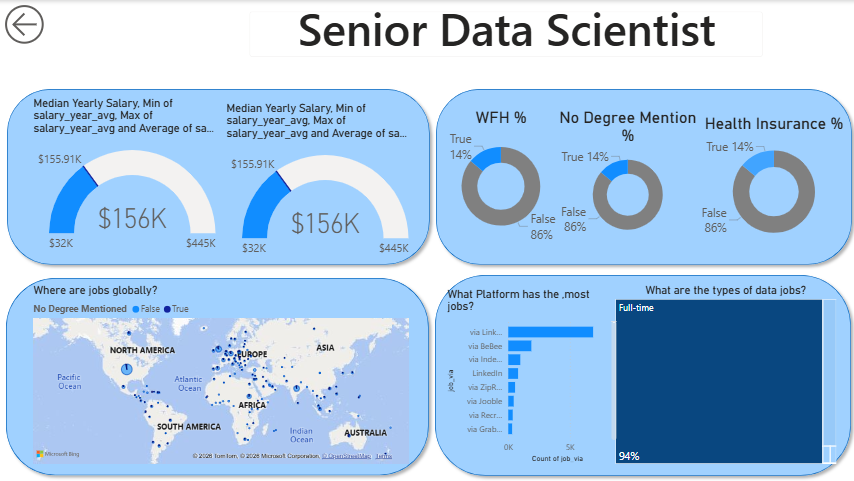

What the dashboard file says about the page in this screenshot:
{"tool":"powerbi","page":{"name":"Job Title Drill Through","canvas":[1280,720],"ordinal":1},"visuals":[{"type":"group","id":"g1","title":"Background","box":[0.6,123.8,1281.7,595],"z":0},{"type":"cardVisual","fields":{"Data":["Min(job_postings_flat.job_title_short)1"]},"box":[355.7,0,801.4,102.9],"z":1000},{"type":"shape","box":[1.5,124.3,649.4,280.3],"z":1000,"group":"g2"},{"type":"actionButton","box":[0,0,167.9,72.9],"z":2000},{"type":"shape","box":[643.2,123.8,639.1,280.3],"z":3000,"group":"g2"},{"type":"gauge","fields":{"Y":["Median(job_postings_flat.salary_year_avg)"],"MinValue":["Min(job_postings_flat.salary_year_avg)1"],"MaxValue":["Max(job_postings_flat.salary_year_avg)2"],"TargetValue":["Avg(job_postings_flat.salary_year_avg)3"]},"box":[44.4,143.6,282,259.8],"z":3000},{"type":"gauge","fields":{"Y":["Median(job_postings_flat.salary_year_avg)"],"MinValue":["Min(job_postings_flat.salary_year_avg)1"],"MaxValue":["Max(job_postings_flat.salary_year_avg)2"],"TargetValue":["Avg(job_postings_flat.salary_year_avg)3"]},"box":[333.2,150.4,282,259.8],"z":4000},{"type":"shape","box":[0.6,406.1,649.4,312.7],"z":4000,"group":"g2"},{"type":"donutChart","title":"WFH %","fields":{"Category":["job_postings_flat.job_work_from_home"],"Y":["CountNonNull(job_postings_flat.job_work_from_home)"]},"box":[642.6,160.6,211.9,206.8],"z":5000},{"type":"shape","box":[642.1,401,639.1,317.9],"z":5000,"group":"g2"},{"type":"donutChart","title":"No Degree Mention %","fields":{"Category":["job_postings_flat.job_work_from_home"],"Y":["CountNonNull(job_postings_flat.job_work_from_home)"]},"box":[827.1,160.6,220.5,205.1],"z":6000},{"type":"donutChart","title":"Health Insurance %","fields":{"Category":["job_postings_flat.job_work_from_home"],"Y":["CountNonNull(job_postings_flat.job_work_from_home)"]},"box":[1032.2,170.9,247.8,205.1],"z":7000},{"type":"map","title":"Where are jobs globally?","fields":{"Category":["job_postings_flat.job_country"],"Size":["CountNonNull(job_postings_flat.job_title_short)"],"Series":["job_postings_flat.job_no_degree_mention"]},"box":[44.4,422.1,570.8,275.1],"z":8000},{"type":"treemap","title":"What are the types of data jobs?","fields":{"Group":["job_postings_flat.job_schedule_type"],"Values":["CountNonNull(job_postings_flat.job_schedule_type)"]},"box":[914.3,422.1,340.1,275.1],"z":9000},{"type":"barChart","title":"What Platform has the ,most jobs?","fields":{"Category":["job_postings_flat.job_via"],"Y":["CountNonNull(job_postings_flat.job_via)"]},"box":[663.1,428.9,263.2,266.6],"z":10000},{"type":"group","id":"g2","title":"Group 1","box":[0.6,123.8,1281.7,595],"z":10001,"group":"g1"}]}

Visuals, with their boxes in screenshot pixels (x1, y1, x2, y2), scaled from the page's 1280x720 canvas onto the 854x481 screenshot:
"Background" group: {"left": 0, "top": 83, "right": 853, "bottom": 480}
cardVisual - Min(job_postings_flat.job_title_short)1: {"left": 237, "top": 0, "right": 772, "bottom": 69}
shape: {"left": 1, "top": 83, "right": 434, "bottom": 270}
actionButton: {"left": 0, "top": 0, "right": 112, "bottom": 49}
shape: {"left": 429, "top": 83, "right": 853, "bottom": 270}
gauge - Median(job_postings_flat.salary_year_avg) x Min(job_postings_flat.salary_year_avg)1: {"left": 30, "top": 96, "right": 218, "bottom": 269}
gauge - Median(job_postings_flat.salary_year_avg) x Min(job_postings_flat.salary_year_avg)1: {"left": 222, "top": 100, "right": 410, "bottom": 274}
shape: {"left": 0, "top": 271, "right": 434, "bottom": 480}
"WFH %" donutChart: {"left": 429, "top": 107, "right": 570, "bottom": 245}
shape: {"left": 428, "top": 268, "right": 853, "bottom": 480}
"No Degree Mention %" donutChart: {"left": 552, "top": 107, "right": 699, "bottom": 244}
"Health Insurance %" donutChart: {"left": 689, "top": 114, "right": 853, "bottom": 251}
"Where are jobs globally?" map: {"left": 30, "top": 282, "right": 410, "bottom": 466}
"What are the types of data jobs?" treemap: {"left": 610, "top": 282, "right": 837, "bottom": 466}
"What Platform has the ,most jobs?" barChart: {"left": 442, "top": 287, "right": 618, "bottom": 465}
"Group 1" group: {"left": 0, "top": 83, "right": 853, "bottom": 480}
